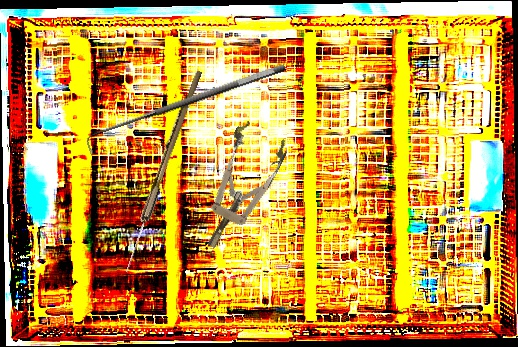Hook Surgical: (82, 61, 292, 156)
Speculum: (185, 117, 292, 259)
Surgical Spoon: (121, 68, 203, 275)
